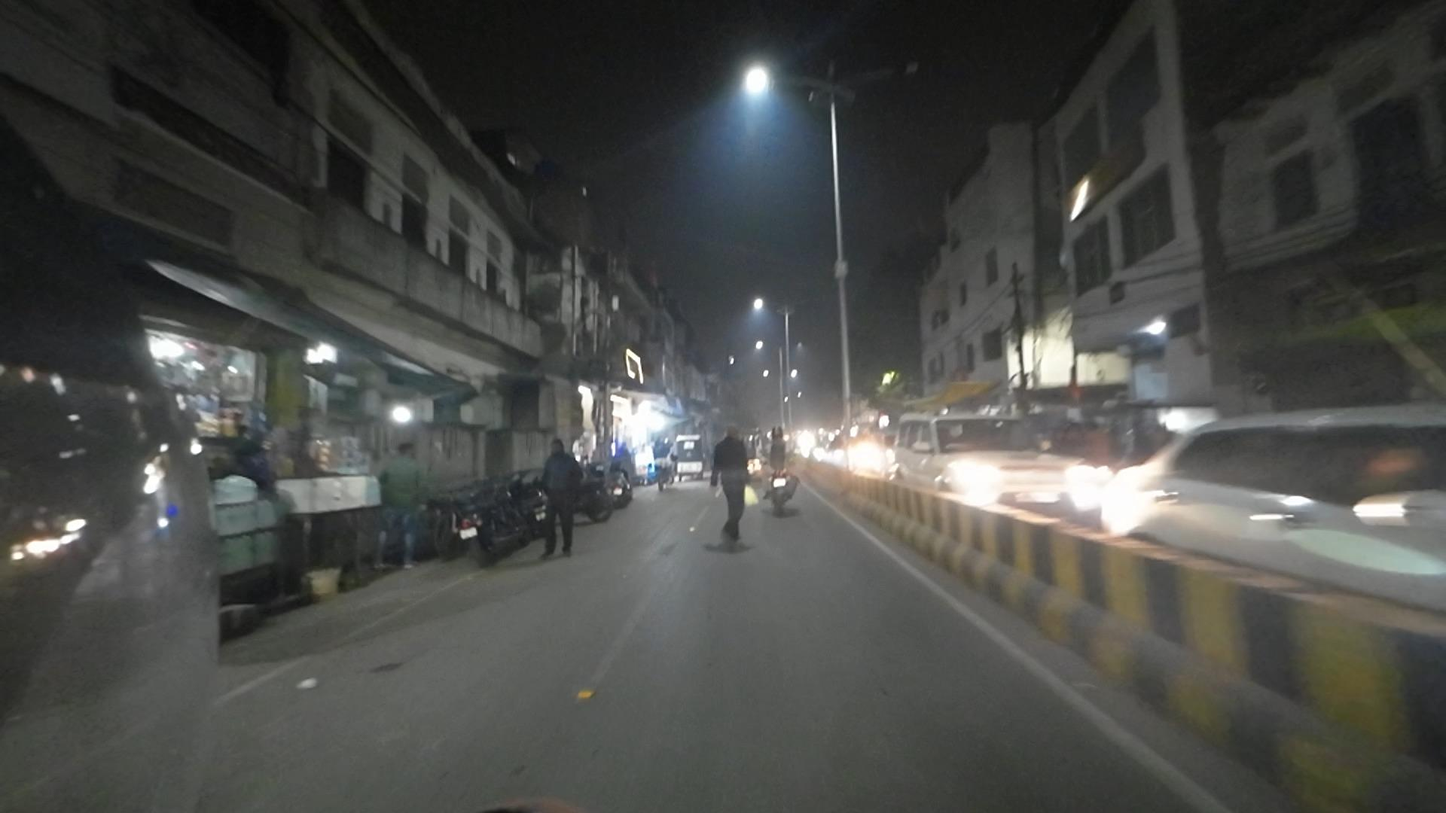streetlight: (853, 55, 920, 84)
